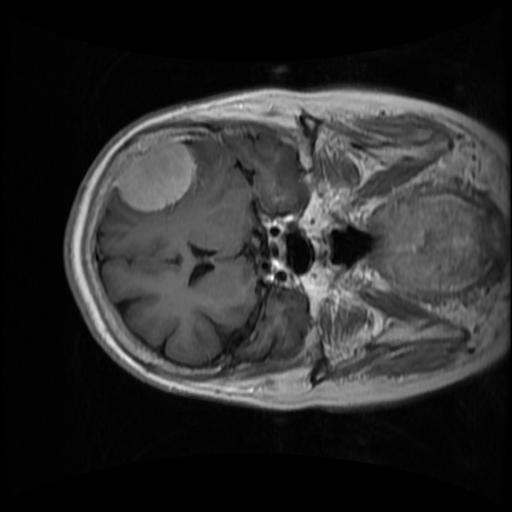meningioma: (114, 139, 195, 212)
